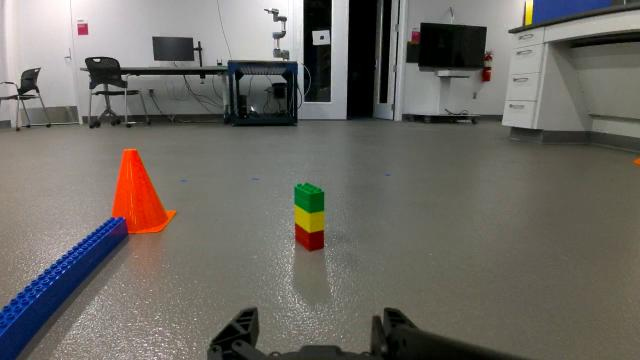lego: (290, 175, 334, 256)
